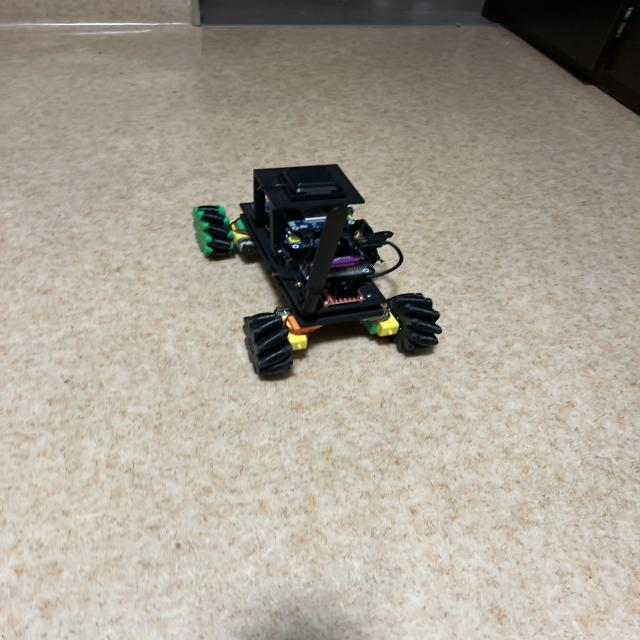robot: (193, 164, 442, 375)
